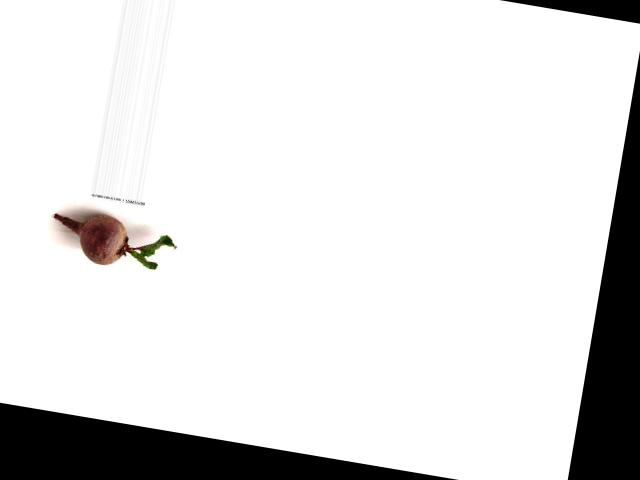beet: (48, 206, 180, 276)
